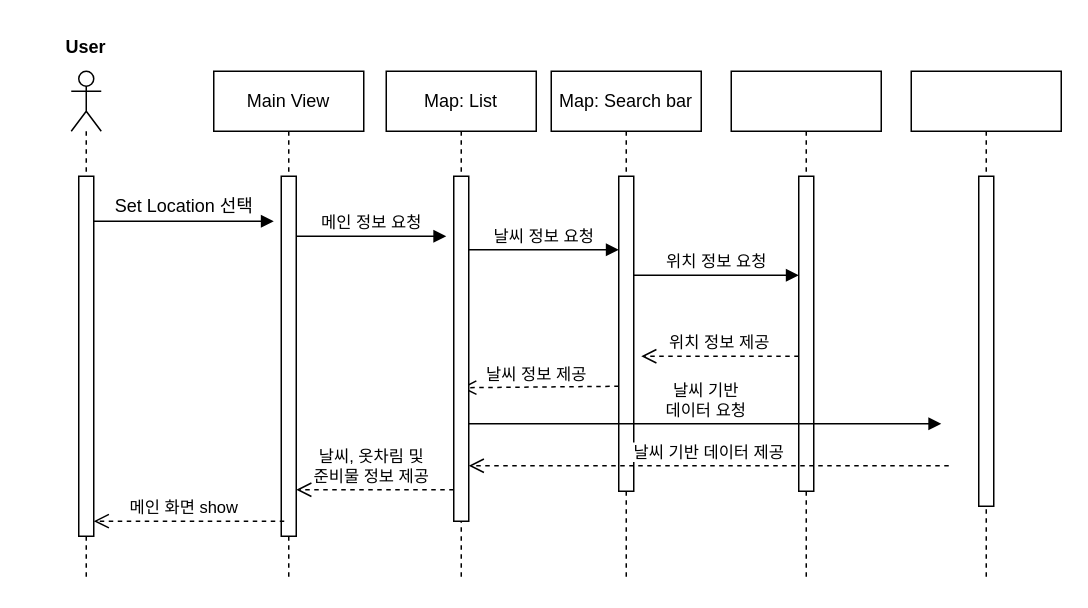
This 1088x608 diagram has some shape labels left out. Here are the shapes that lost their labels. From the top down, the box of each, then its label:
(730, 70, 881, 581): Map: Autocomplete list
(910, 70, 1061, 581): Show manage System
